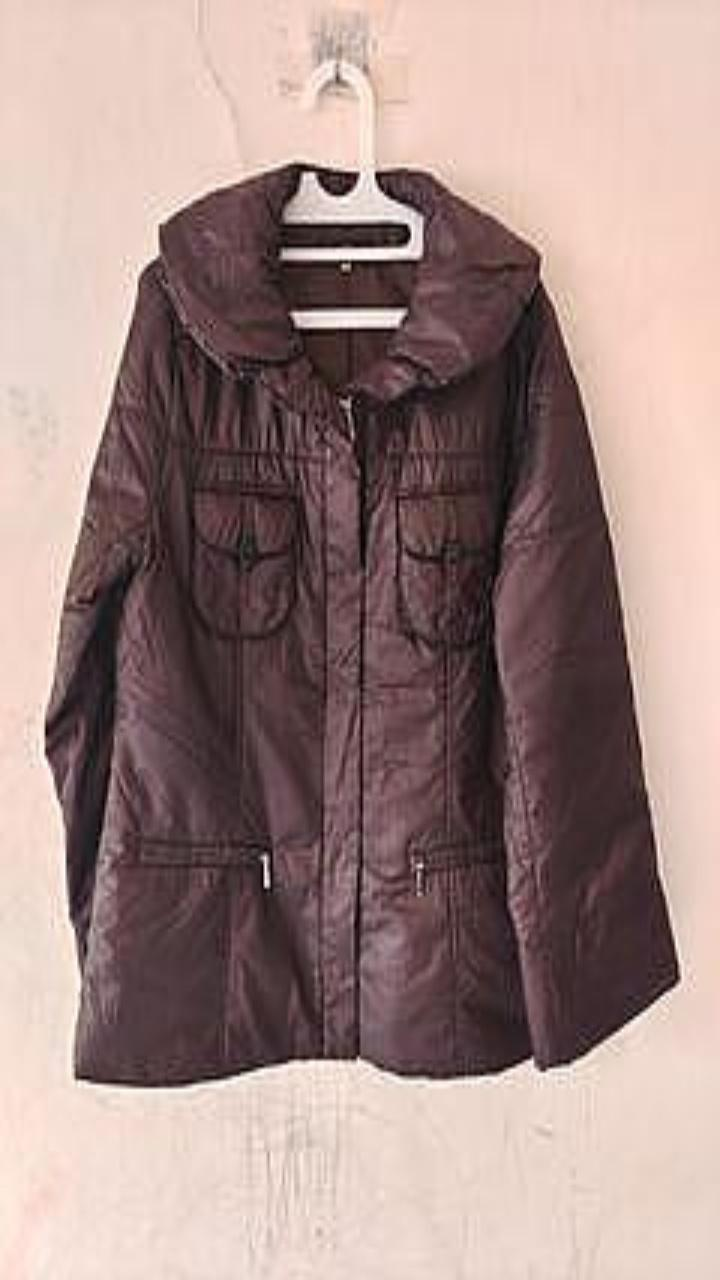Coat: (46, 160, 679, 1084)
